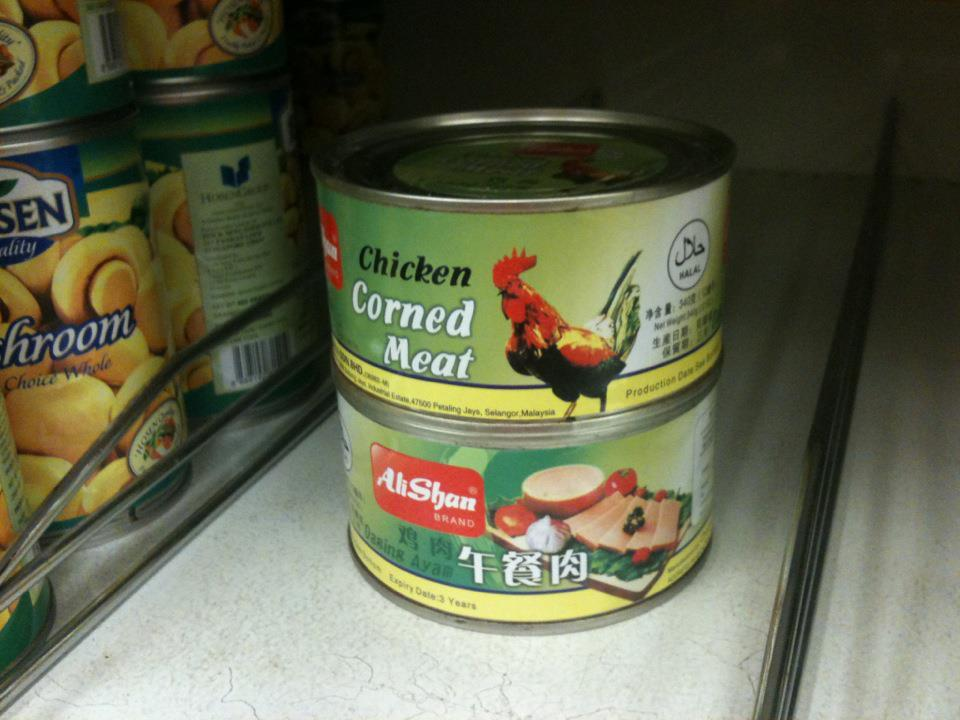metal: (314, 108, 735, 630)
